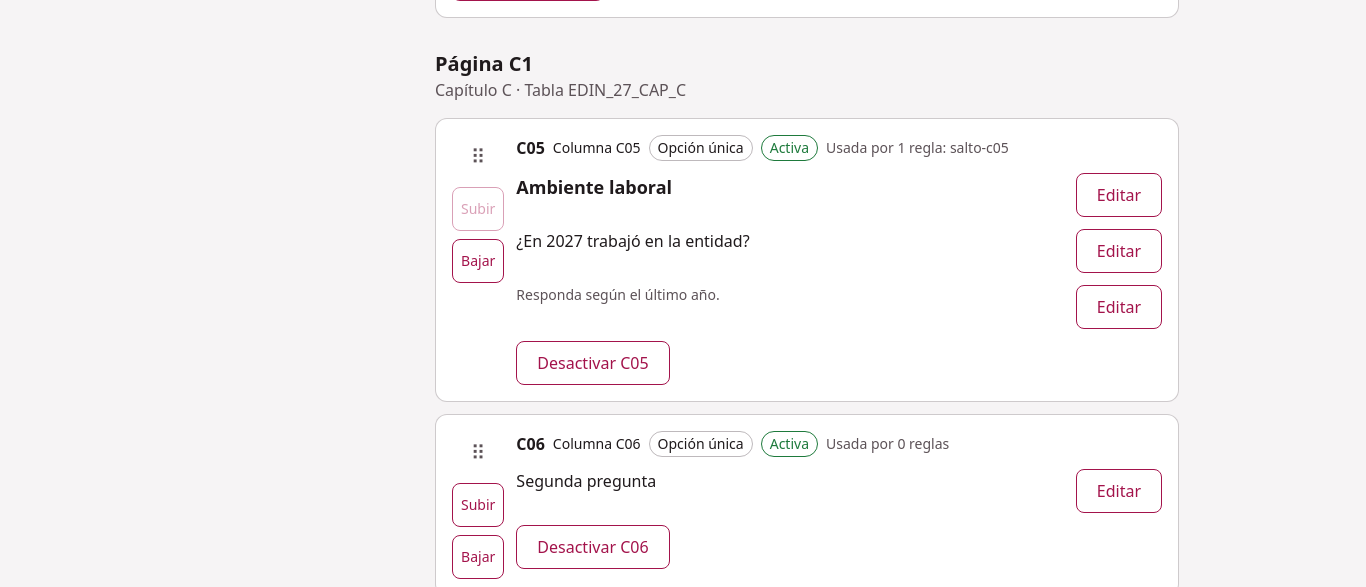
Scenario: QuestionEditor › deactivateShowsReferencingRules
(page scrolled)
Click the button "Desactivar C05": [593, 363] box [516,341,670,385]
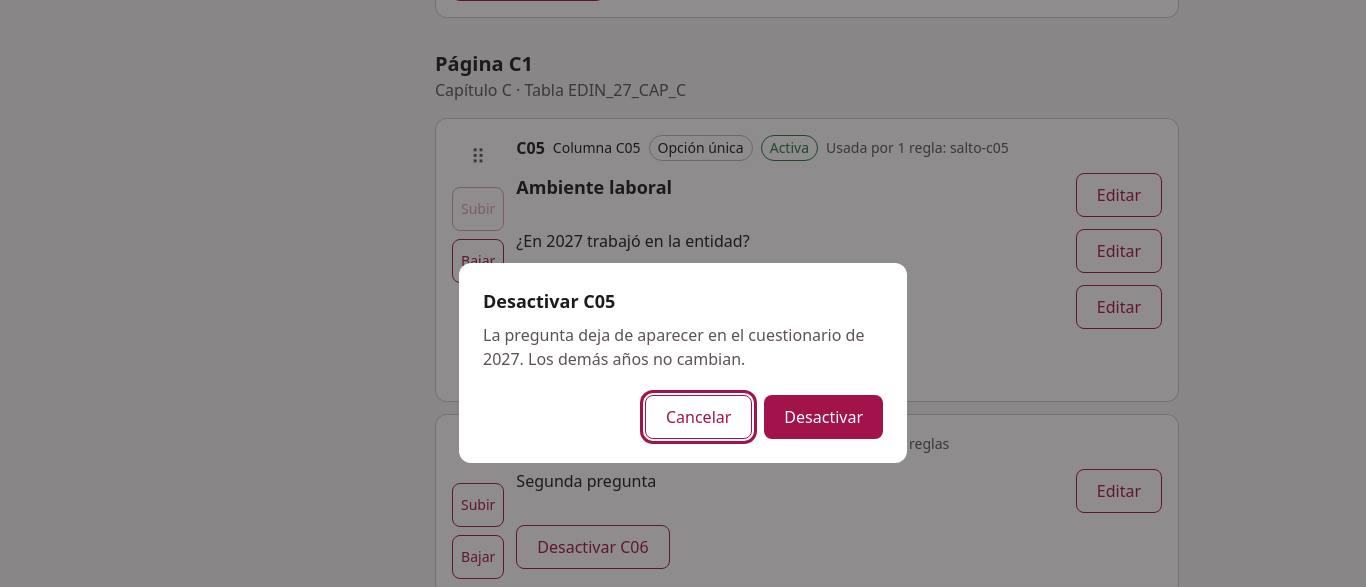
Click the button "Desactivar": [824, 417] box [764,395,883,439]
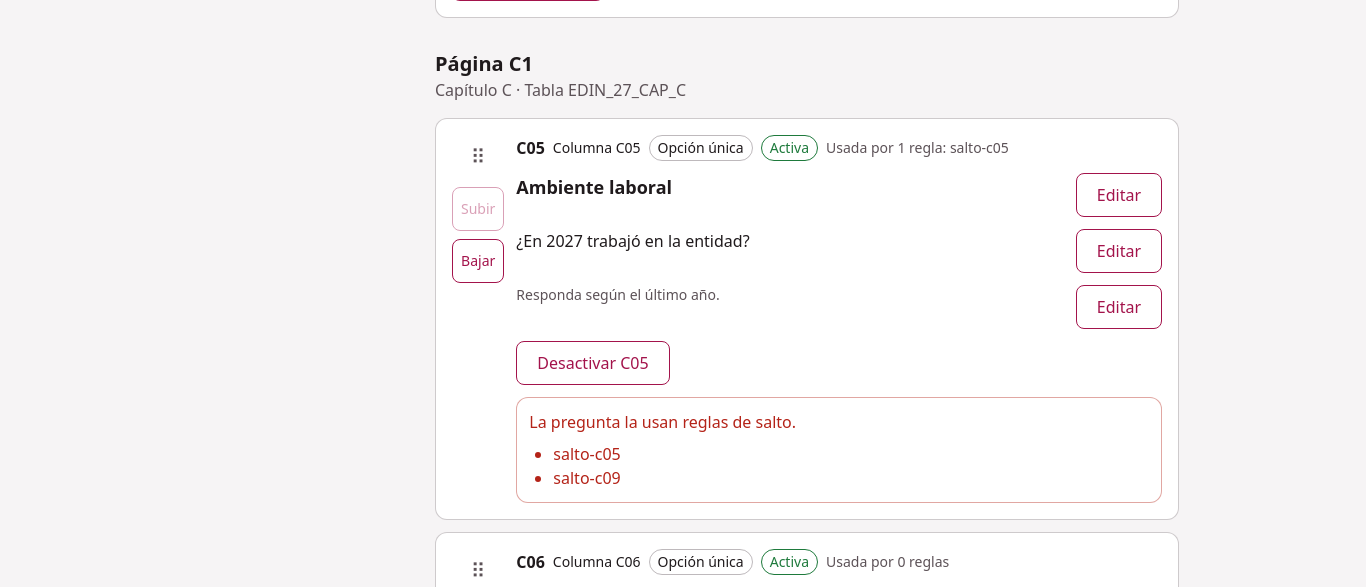
Expected: the message shows "La pregunta la usan reglas de salto.", [529,411,796,433]
Expected: the list item "salto-c05" is shown, [553,443,621,465]
Expected: the list item "salto-c09" is shown, [553,467,621,489]
